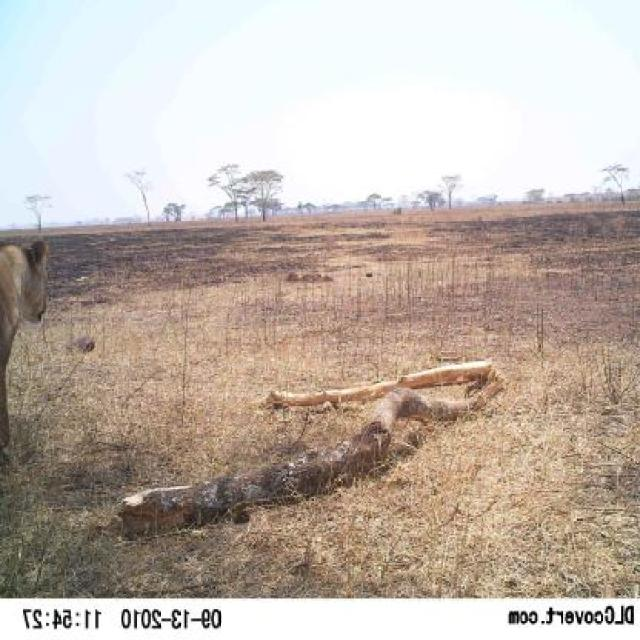Lion: (0, 214, 58, 497)
